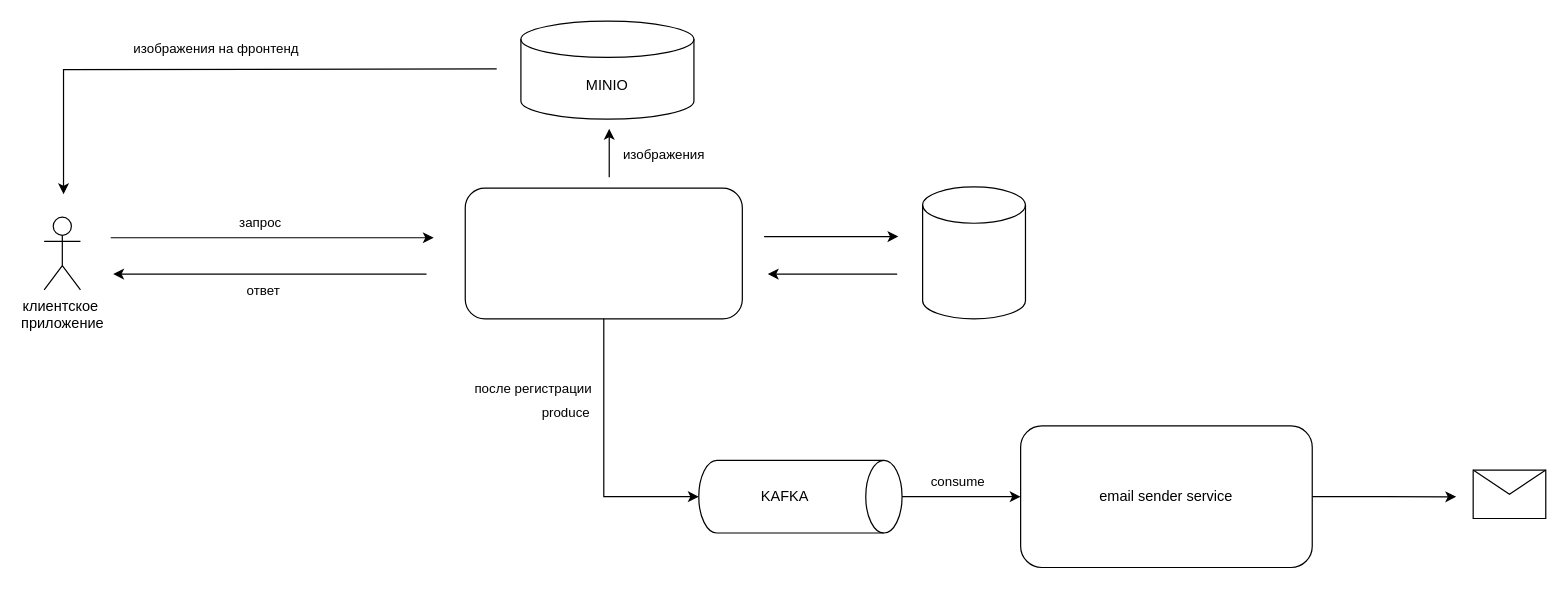
Some shapes in this 1567 by 589 pixel diagram are drawn without their labels. The shapes that lost their labels are listed below. From the top down, each one's centre as x and y in pixels, then its label:
At point (603, 253): "сервис".
At point (973, 252): "БД".
